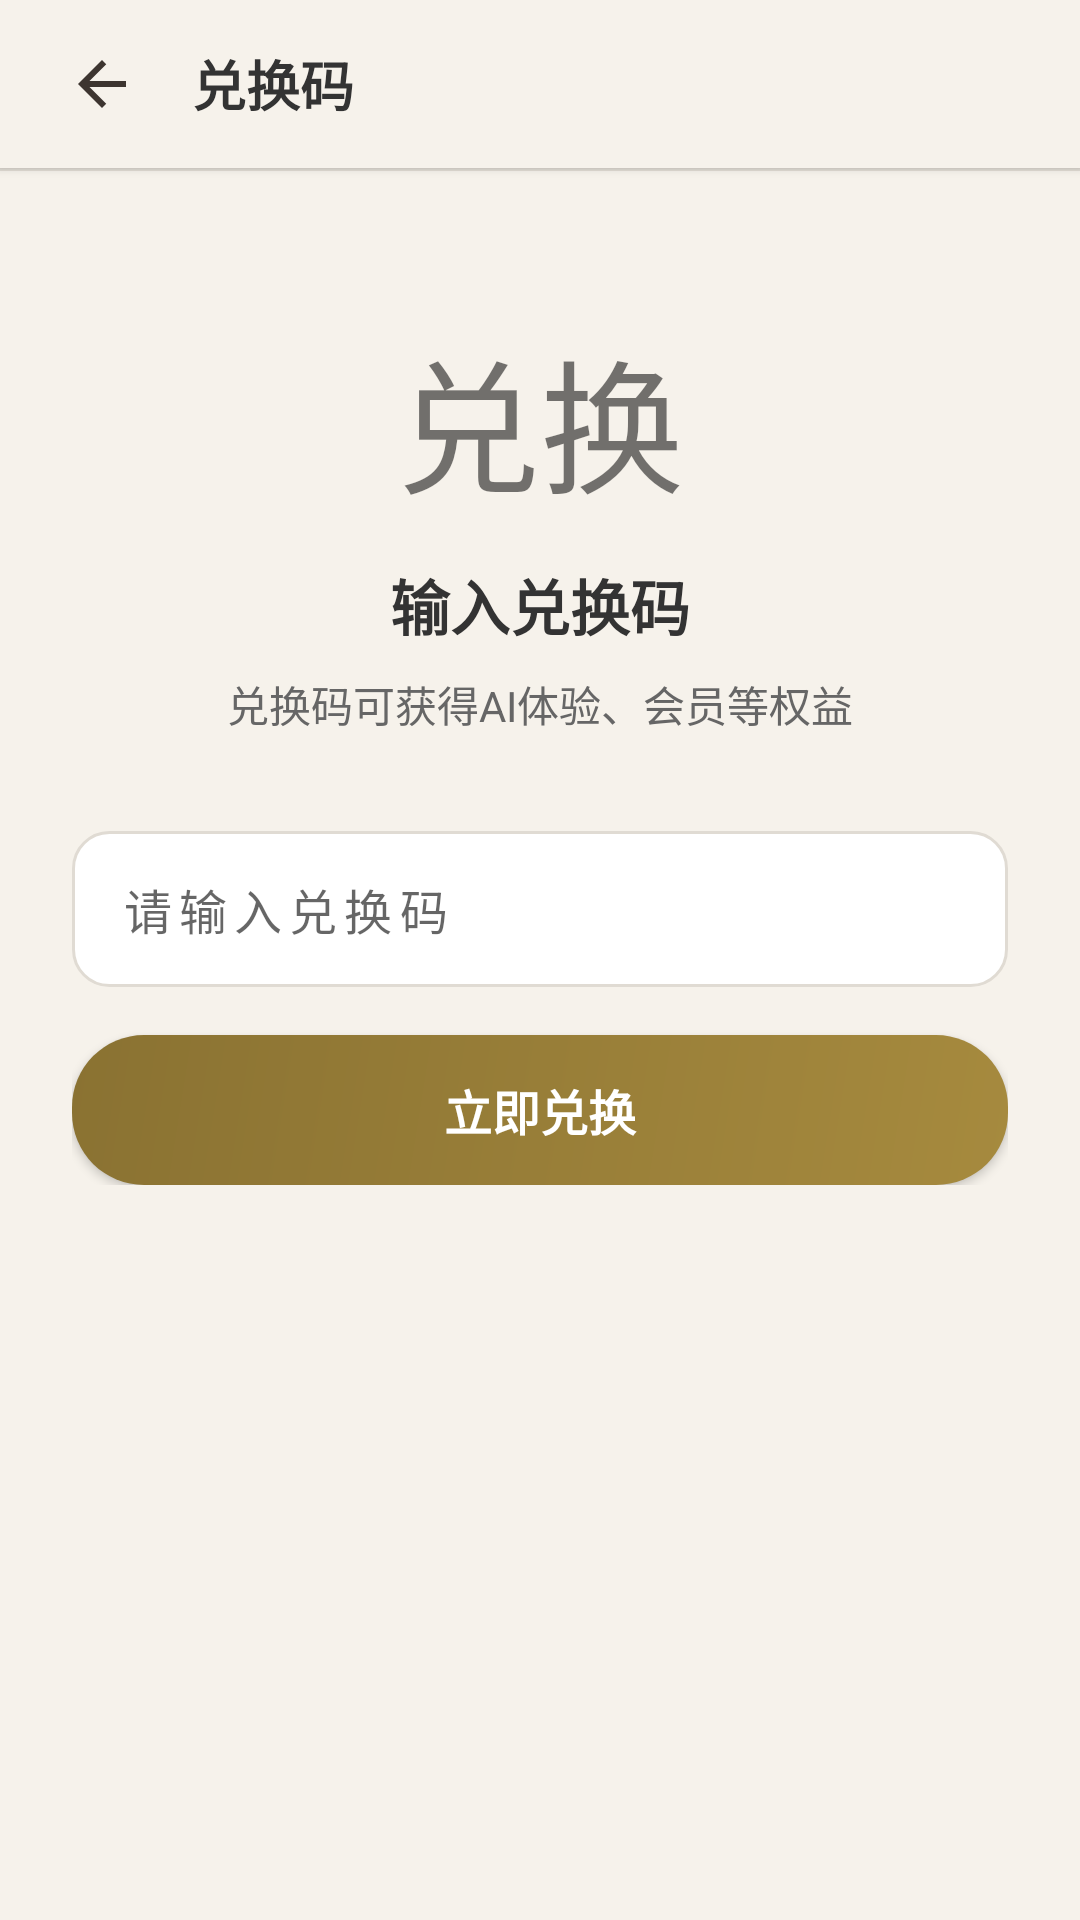

Where icons sit on this 1080x1920 app screen, as [x1, y1, x2, y2]:
返回: [78, 60, 126, 108]
